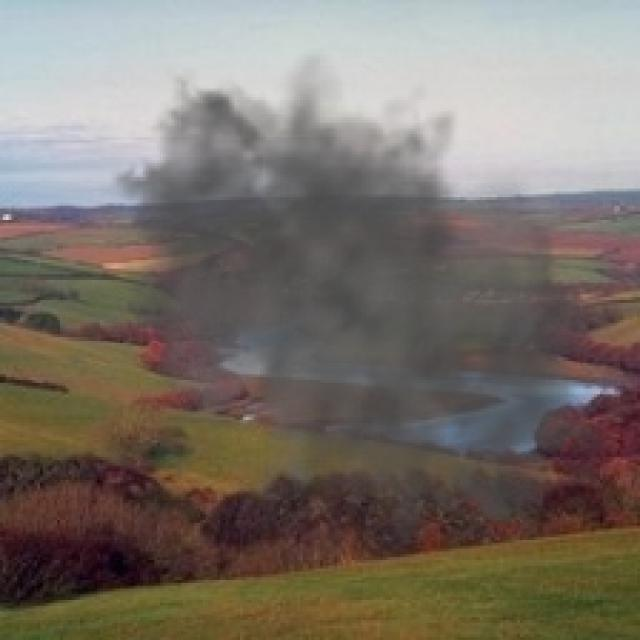smoke: (77, 48, 634, 566)
